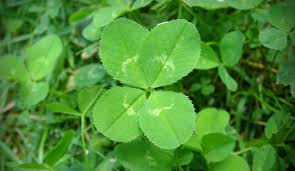4-clover: (95, 16, 198, 150)
